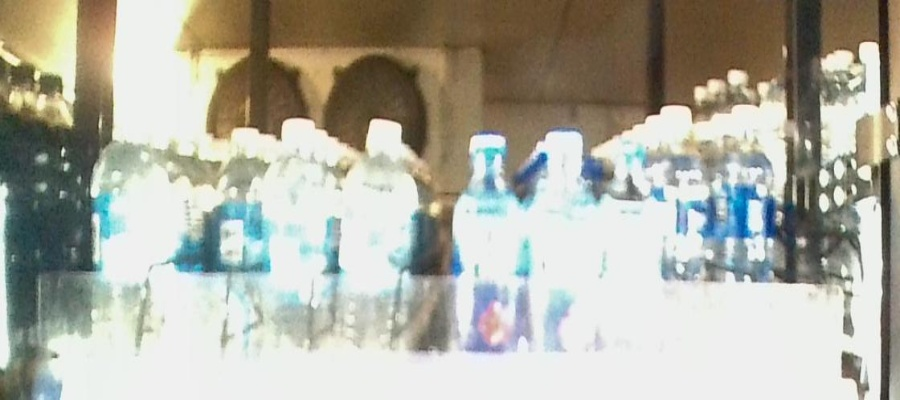bottle: (344, 113, 417, 385), (269, 106, 338, 383), (452, 130, 523, 358), (532, 127, 599, 360), (605, 140, 667, 369), (215, 122, 266, 380)
